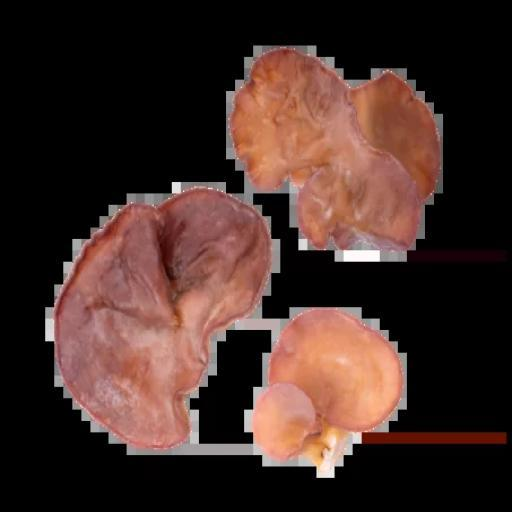mushroom: (48, 189, 275, 457), (225, 46, 446, 261), (251, 306, 406, 491)
